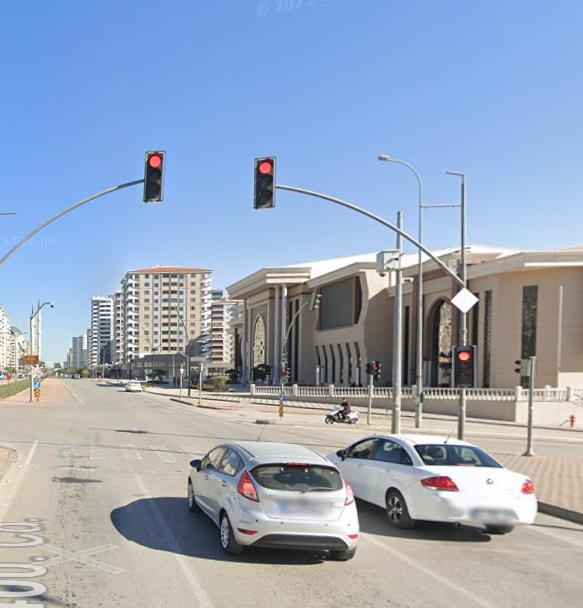redlight: (255, 159, 275, 204), (146, 152, 162, 200), (454, 347, 472, 386)
